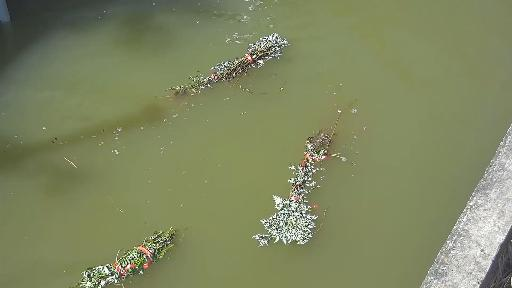twig: (242, 94, 369, 247), (141, 29, 290, 117), (81, 222, 192, 288)
